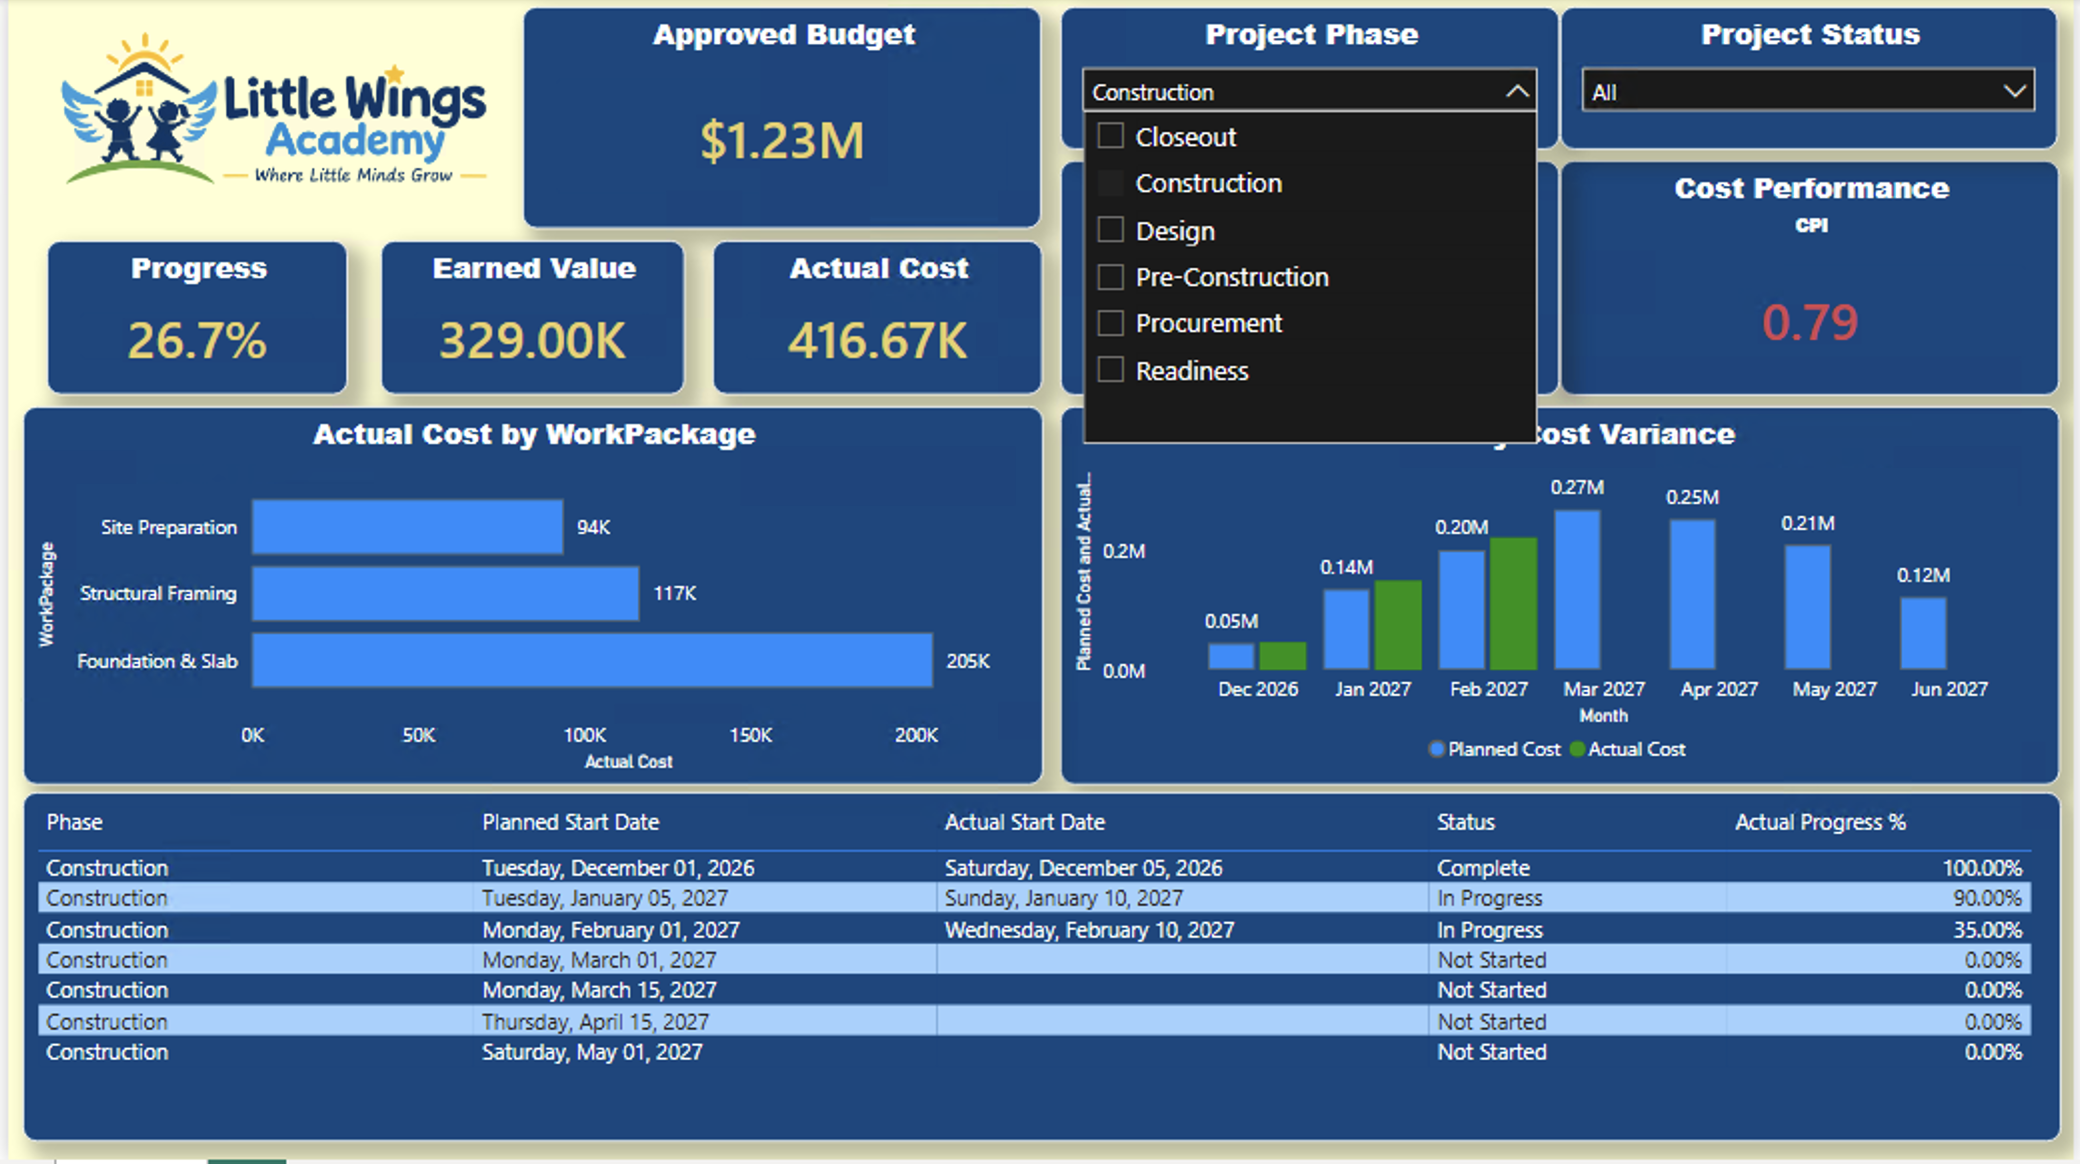

Layout of this report page (visuals, bound fields, positions):
{"tool":"powerbi","page":{"name":"Page 1","canvas":[1280,720],"ordinal":0},"visuals":[{"type":"cardVisual","title":"Approved Budget","fields":{"Data":["Calendar.Total Budget"]},"box":[318.3,5.4,322.4,137.6],"z":0},{"type":"cardVisual","title":"Actual Cost","fields":{"Data":["Calendar.Actual Cost"]},"box":[435.7,149.7,205,95.8],"z":1000},{"type":"cardVisual","title":"Earned Value","fields":{"Data":["Calendar.Earned Value"]},"box":[230.6,149.7,188.8,95.8],"z":2000},{"type":"cardVisual","title":"Progress","fields":{"Data":["Calendar.Actual Progress %"]},"box":[22.9,149.7,187.5,95.8],"z":3000},{"type":"cardVisual","title":"Cost Performance","fields":{"Data":["Calendar.Cost Performance Index"]},"box":[961.7,99.8,310.2,145.7],"z":4000},{"type":"cardVisual","title":"Schedule Performance","fields":{"Data":["Calendar.Schedule Performance Index"]},"box":[651.5,99.8,310.2,145.7],"z":5000},{"type":"clusteredColumnChart","title":"Monthly Cost Variance","fields":{"Y":["Calendar.Planned Cost","Calendar.Actual Cost"],"Category":["Calendar.Month"]},"box":[651.5,252.2,620.4,234.7],"z":6000},{"type":"clusteredBarChart","fields":{"Category":["Costs.WorkPackage"],"Y":["Calendar.Actual Cost"]},"box":[8.1,252.2,632.6,234.7],"z":7000},{"type":"tableEx","fields":{"Values":["Tasks.Phase","Tasks.Planned Start Date","Tasks.Actual Start Date","Tasks.Status","Calendar.Actual Progress %"]},"box":[8.1,492.3,1263.8,217.2],"z":8000},{"type":"slicer","title":"Project Phase","fields":{"Values":["Tasks.Phase"]},"box":[651.5,5.4,310.2,89],"z":9000},{"type":"slicer","title":"Project Status","fields":{"Values":["Tasks.Status"]},"box":[961.7,5.4,308.9,89],"z":10000},{"type":"image","box":[22.9,0,284.6,149.7],"z":11000}]}

Visuals, with their boxes in screenshot pixels (x1, y1, x2, y2), scaled from the page's 1280x720 canvas onto the 2080x1164 screenshot:
"Approved Budget" cardVisual: {"left": 517, "top": 9, "right": 1041, "bottom": 231}
"Actual Cost" cardVisual: {"left": 708, "top": 242, "right": 1041, "bottom": 397}
"Earned Value" cardVisual: {"left": 375, "top": 242, "right": 682, "bottom": 397}
"Progress" cardVisual: {"left": 37, "top": 242, "right": 342, "bottom": 397}
"Cost Performance" cardVisual: {"left": 1563, "top": 161, "right": 2067, "bottom": 397}
"Schedule Performance" cardVisual: {"left": 1059, "top": 161, "right": 1563, "bottom": 397}
"Monthly Cost Variance" clusteredColumnChart: {"left": 1059, "top": 408, "right": 2067, "bottom": 787}
clusteredBarChart - Costs.WorkPackage x Calendar.Actual Cost: {"left": 13, "top": 408, "right": 1041, "bottom": 787}
tableEx - Tasks.Phase x Tasks.Planned Start Date: {"left": 13, "top": 796, "right": 2067, "bottom": 1147}
"Project Phase" slicer: {"left": 1059, "top": 9, "right": 1563, "bottom": 153}
"Project Status" slicer: {"left": 1563, "top": 9, "right": 2065, "bottom": 153}
image: {"left": 37, "top": 0, "right": 500, "bottom": 242}
